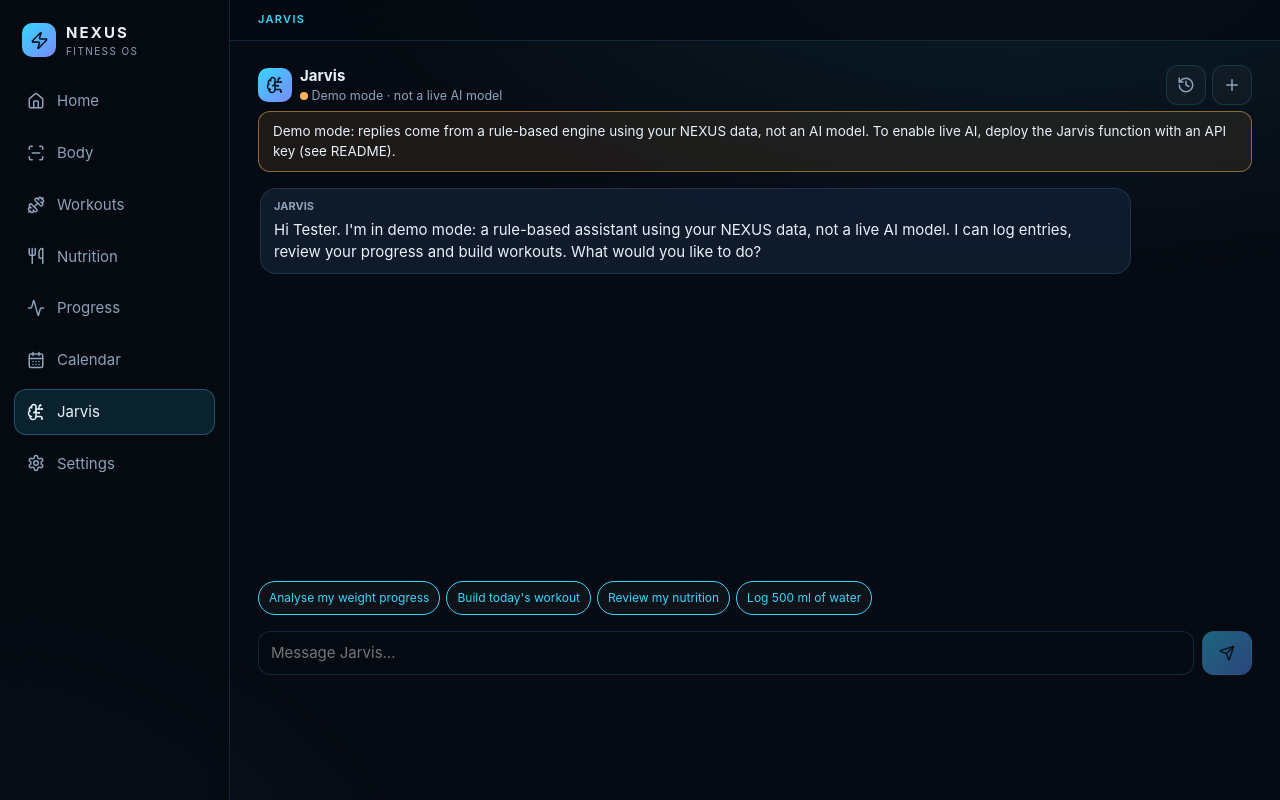
app smoke › Jarvis: send a message, get a demo reply, approve an action that changes real data
Type "log my weight 57.2kg" into the text box labelled "Message Jarvis". click: (726, 653)
box: left=258, top=631, right=1194, bottom=675
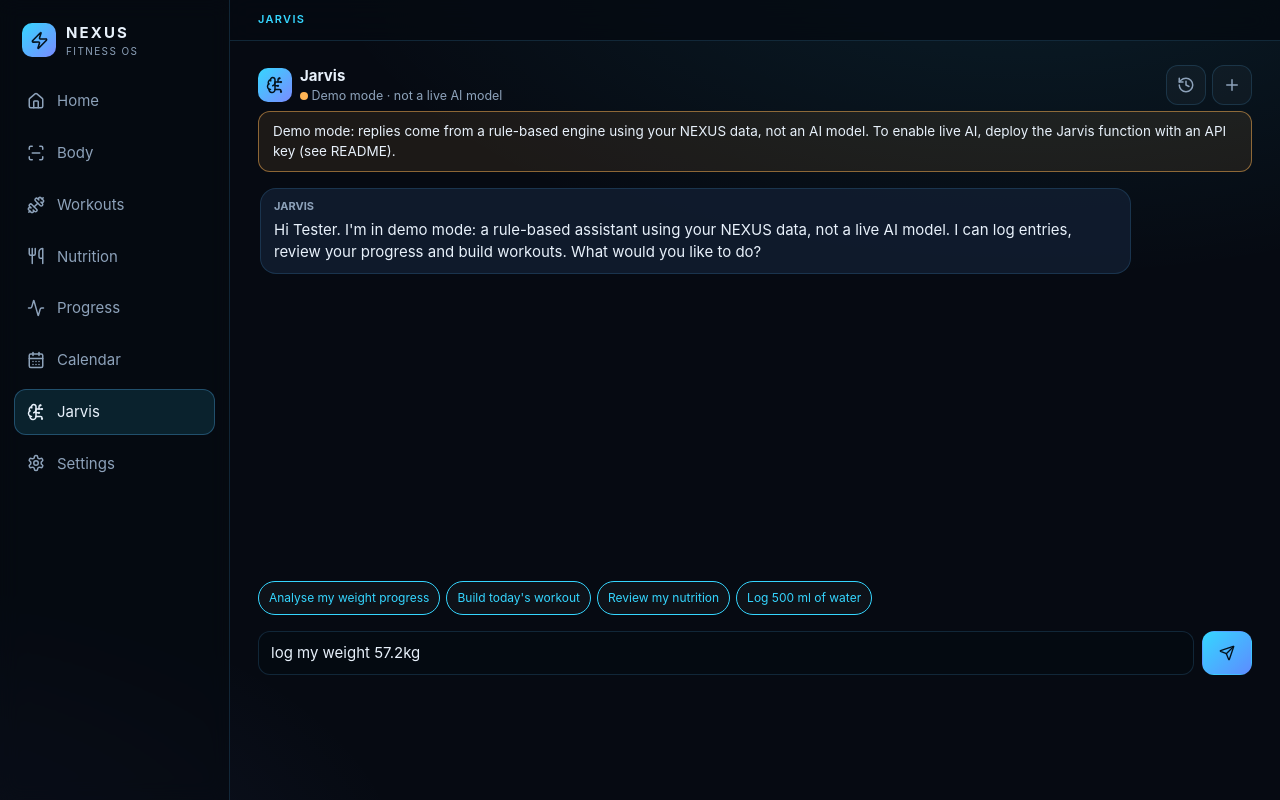
Click the button named "Send". click: (1227, 653)
box: left=1202, top=631, right=1252, bottom=675
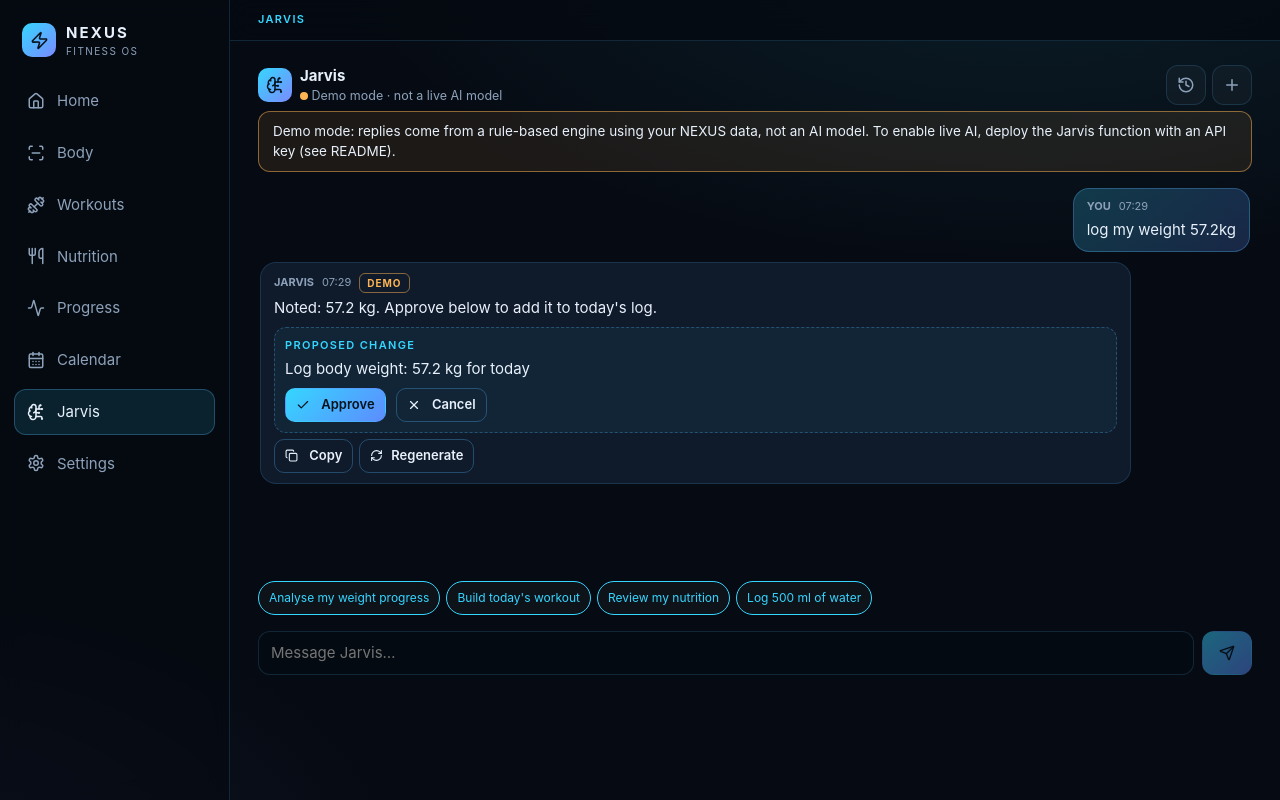
Expected: the button "Approve" is shown
Click the button "Approve". click: (335, 405)
box: left=285, top=388, right=386, bottom=422
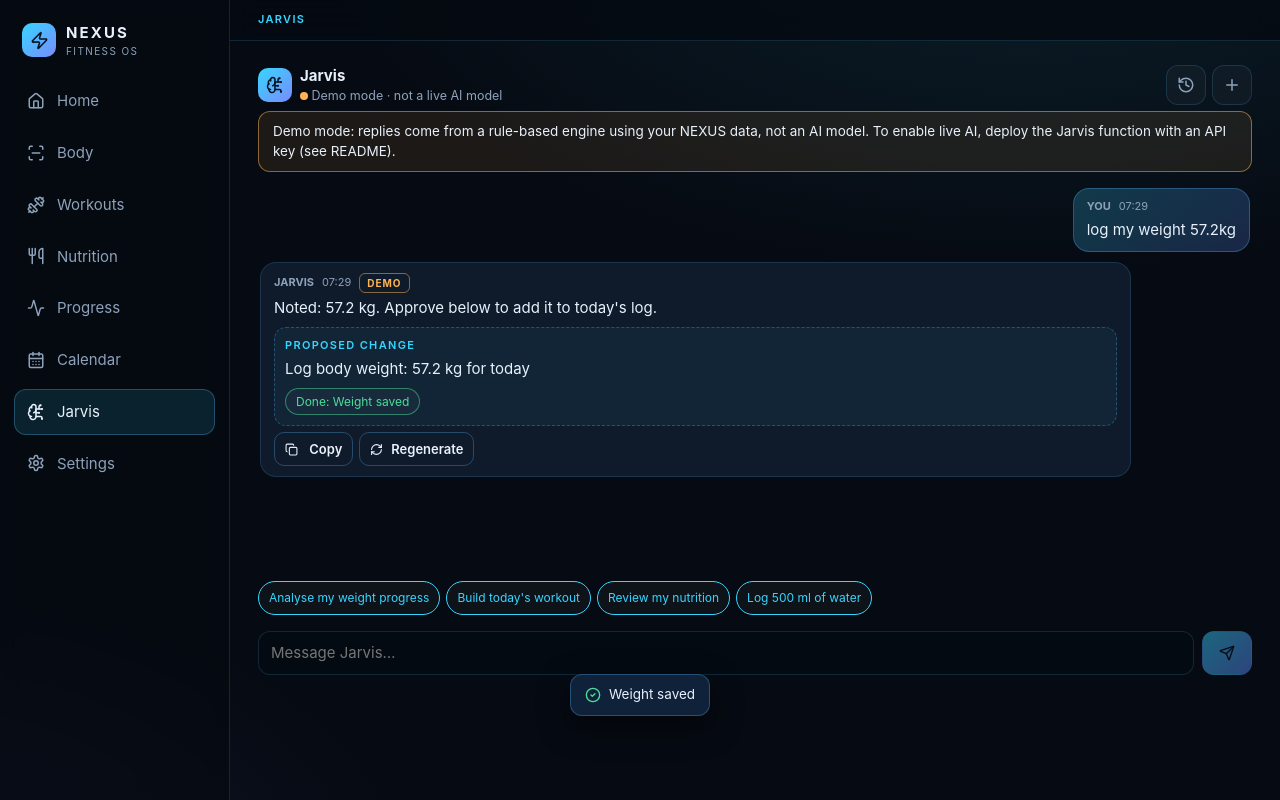
Expected: the text "Done: Weight saved" is shown, left=285, top=388, right=420, bottom=415
